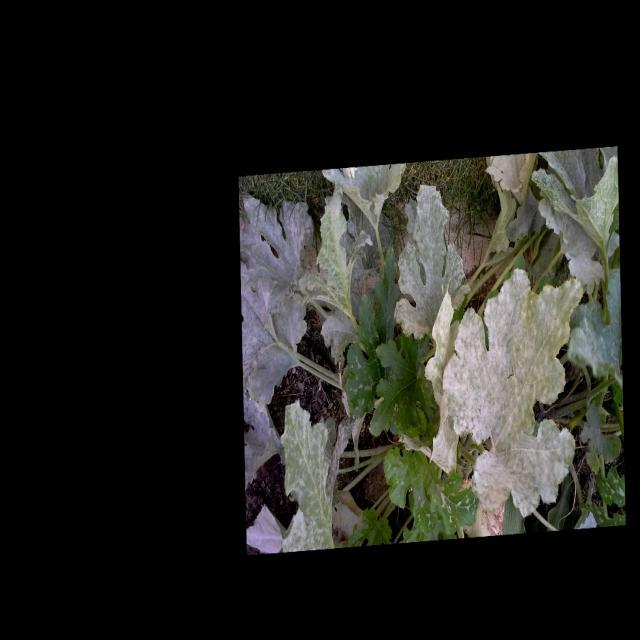Leaf_Mold: (424, 272, 580, 526), (486, 160, 620, 354), (308, 166, 409, 327), (242, 186, 308, 420), (398, 173, 482, 354), (244, 420, 342, 554)
